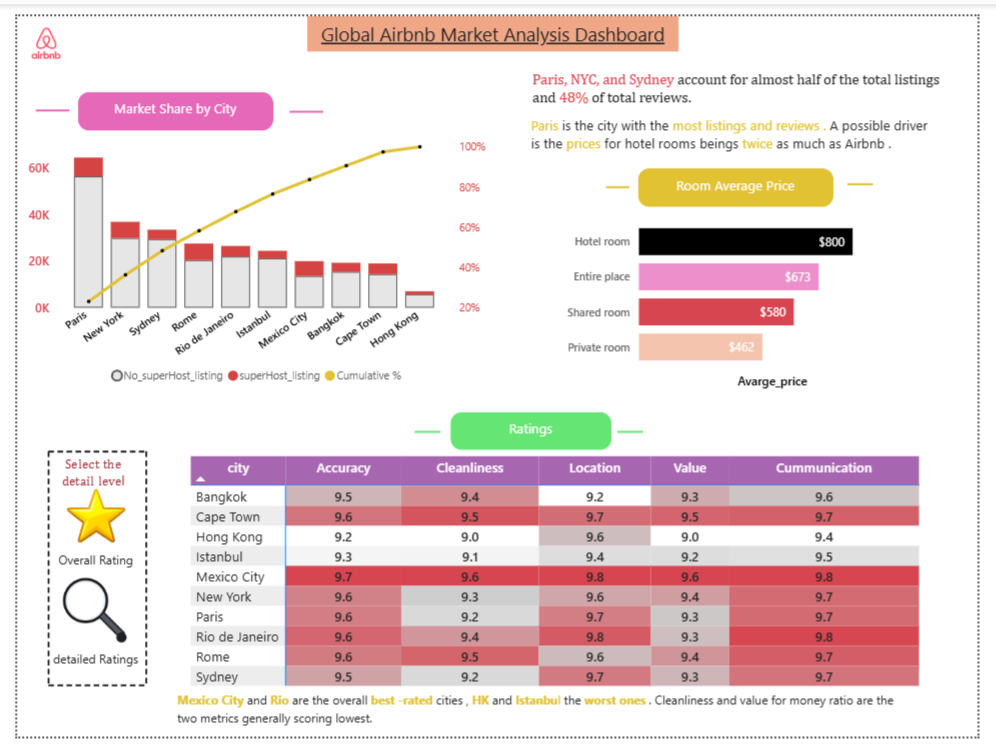

Layout of this report page (visuals, bound fields, positions):
{"tool":"powerbi","page":{"name":"Ratings","canvas":[960,720],"ordinal":1},"visuals":[{"type":"textbox","box":[10,0,280,280],"z":0},{"type":"textbox","box":[290,0,371.2,35],"z":1000},{"type":"image","box":[0,0,58,61],"z":2000},{"type":"textbox","box":[60,75,196.7,40],"z":3000},{"type":"shape","box":[18.8,77.5,33.3,33.3],"z":4000},{"type":"shape","box":[272.5,78.8,33.3,33.3],"z":5000},{"type":"textbox","box":[510,48.8,417.8,52.2],"z":6000},{"type":"lineStackedColumnComboChart","fields":{"Category":["Listings.city"],"Y":["Listings.No_superHost_listing","Listings.superHost_listing"],"Y2":["Listings.Cumulative %"]},"box":[6.2,115,470,262.2],"z":7000},{"type":"barChart","fields":{"Category":["Listings.room_type"],"Y":["Listings.Avarge_price"]},"box":[543.8,185,350,192.5],"z":8000},{"type":"textbox","box":[620,151.2,196.7,40],"z":9000},{"type":"textbox","box":[508.8,95,410,48.9],"z":10000},{"type":"shape","box":[830,151.2,25.6,33.3],"z":11000},{"type":"shape","box":[588.8,152.5,23.3,36.7],"z":12000},{"type":"columnChart","fields":{"Y":["Listings.Avg_rating"],"Category":["Listings.city"]},"box":[158.9,435.6,730,243.3],"z":13000},{"type":"textbox","box":[432.2,395.6,162.2,38.9],"z":14000},{"type":"shape","box":[600,398.9,25.6,33.3],"z":15000},{"type":"shape","box":[397.8,398.9,25.6,33.3],"z":16000},{"type":"image","box":[1.1,425.6,157.8,253.3],"z":17000},{"type":"image","box":[35.5,444.4,87.8,110],"z":18000,"group":"g2"},{"type":"textbox","box":[28.9,432.2,94.4,54.4],"z":19000},{"type":"image","box":[28.9,544.4,92.2,98.9],"z":19000,"group":"g1"},{"type":"group","id":"g1","title":"Group 2","box":[26.7,544.4,104.4,112.2],"z":20000},{"type":"group","id":"g2","title":"Group 1","box":[31.1,444.4,94.4,137.8],"z":21000},{"type":"textbox","box":[31.1,527.7,94.4,54.4],"z":22000,"group":"g2"},{"type":"textbox","box":[155.6,668.9,738.9,51.1],"z":22000},{"type":"textbox","box":[26.7,608.8,104.4,47.8],"z":23000,"group":"g1"}]}

Visuals, with their boxes in screenshot pixels (x1, y1, x2, y2), scaled from the page's 960x720 canvas onto the 996x752 screenshot:
textbox: {"x1": 10, "y1": 0, "x2": 301, "y2": 292}
textbox: {"x1": 301, "y1": 0, "x2": 686, "y2": 37}
image: {"x1": 0, "y1": 0, "x2": 60, "y2": 64}
textbox: {"x1": 62, "y1": 78, "x2": 266, "y2": 120}
shape: {"x1": 20, "y1": 81, "x2": 54, "y2": 116}
shape: {"x1": 283, "y1": 82, "x2": 317, "y2": 117}
textbox: {"x1": 529, "y1": 51, "x2": 963, "y2": 105}
lineStackedColumnComboChart - Listings.city x Listings.No_superHost_listing: {"x1": 6, "y1": 120, "x2": 494, "y2": 394}
barChart - Listings.room_type x Listings.Avarge_price: {"x1": 564, "y1": 193, "x2": 927, "y2": 394}
textbox: {"x1": 643, "y1": 158, "x2": 847, "y2": 200}
textbox: {"x1": 528, "y1": 99, "x2": 953, "y2": 150}
shape: {"x1": 861, "y1": 158, "x2": 888, "y2": 193}
shape: {"x1": 611, "y1": 159, "x2": 635, "y2": 198}
columnChart - Listings.Avg_rating x Listings.city: {"x1": 165, "y1": 455, "x2": 922, "y2": 709}
textbox: {"x1": 448, "y1": 413, "x2": 617, "y2": 454}
shape: {"x1": 622, "y1": 417, "x2": 649, "y2": 451}
shape: {"x1": 413, "y1": 417, "x2": 439, "y2": 451}
image: {"x1": 1, "y1": 445, "x2": 165, "y2": 709}
image: {"x1": 37, "y1": 464, "x2": 128, "y2": 579}
textbox: {"x1": 30, "y1": 451, "x2": 128, "y2": 508}
image: {"x1": 30, "y1": 569, "x2": 126, "y2": 672}
"Group 2" group: {"x1": 28, "y1": 569, "x2": 136, "y2": 686}
"Group 1" group: {"x1": 32, "y1": 464, "x2": 130, "y2": 608}
textbox: {"x1": 32, "y1": 551, "x2": 130, "y2": 608}
textbox: {"x1": 161, "y1": 699, "x2": 928, "y2": 751}
textbox: {"x1": 28, "y1": 636, "x2": 136, "y2": 686}
